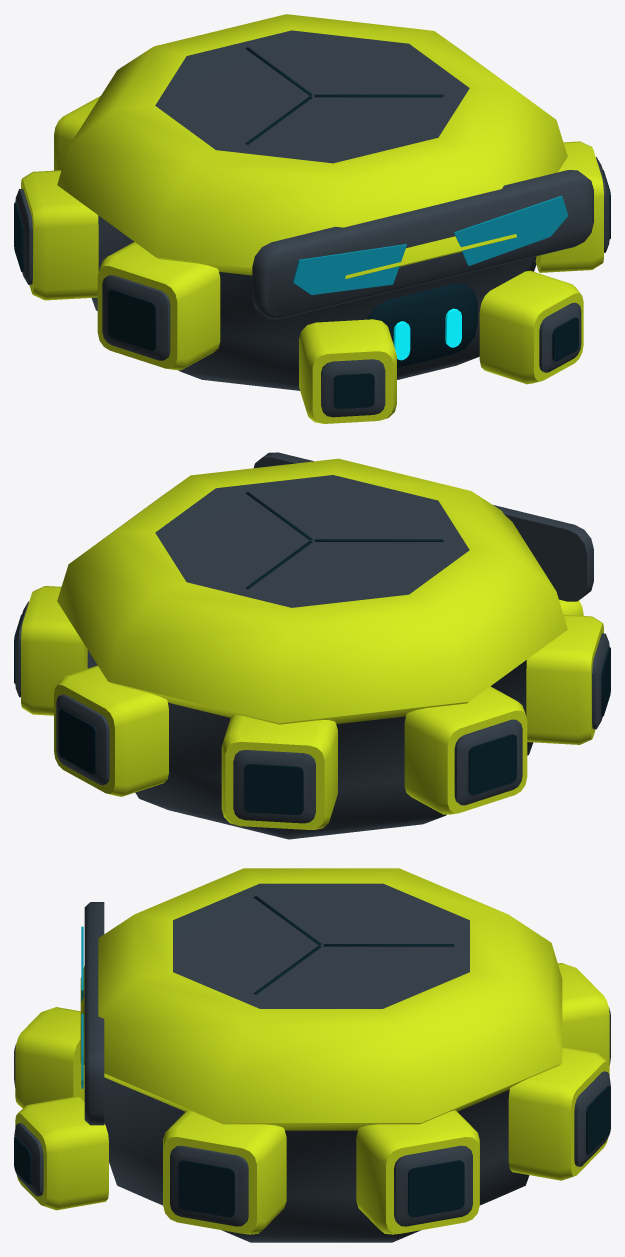
File: copilot_linter_v01.glb
3 renders of one model, top to bottom at view 1: azimuth 30°, elevation 25°; view 2: azimuth 150°, elevation 25°; view 3: azimuth 270°, elevation 25°, orthographic.
Visible parts, largest first — view 1: linter_agent_model; view 2: linter_agent_model; view 3: linter_agent_model.
Part boxes in pixels (left/top/right/bottom): linter_agent_model: left=14, top=14, right=610, bottom=423; linter_agent_model: left=14, top=452, right=610, bottom=839; linter_agent_model: left=14, top=868, right=610, bottom=1242.
Size of the model in its own units: 2.49 by 1.08 by 2.56.
2 materials, 2 textured.
